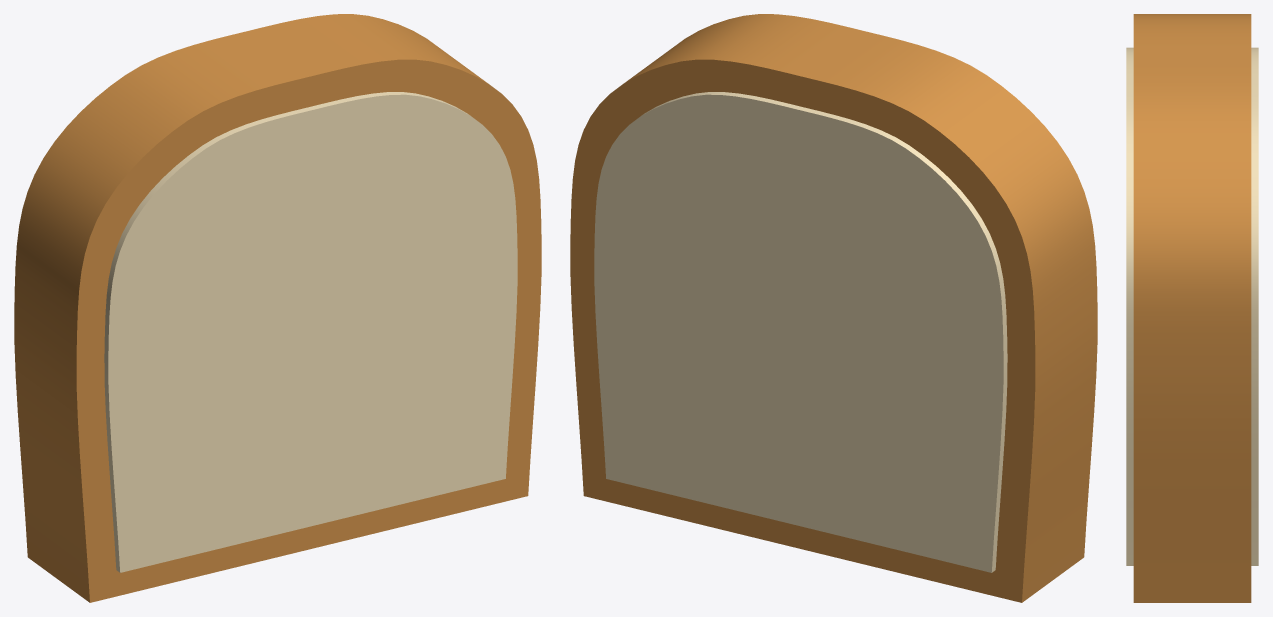
Rendered from Bakery_L4.fbx.
3 views of the same model, side by side, from view 1: azimuth 30°, elevation 25°; view 2: azimuth 150°, elevation 25°; view 3: azimuth 270°, elevation 25° (orthographic). The views are drawn at different scales.
Parts seen in each view (by area): view 1: B4_Crumb, B4_Crust; view 2: B4_Crumb, B4_Crust; view 3: B4_Crust, B4_Crumb.
Part boxes in pixels (box(x1,y1,x2,y2)): B4_Crumb: box(104, 92, 517, 572); B4_Crust: box(14, 14, 541, 602); B4_Crumb: box(594, 92, 1007, 572); B4_Crust: box(570, 14, 1097, 602); B4_Crust: box(1133, 14, 1251, 602); B4_Crumb: box(1126, 47, 1258, 565).
Bounding box in the file's own units: 13.8 × 13.4 × 3.6.
